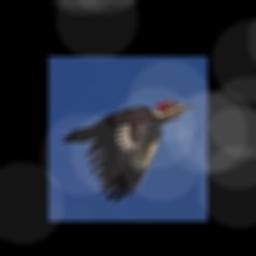Woodpecker: (62, 100, 194, 202)
